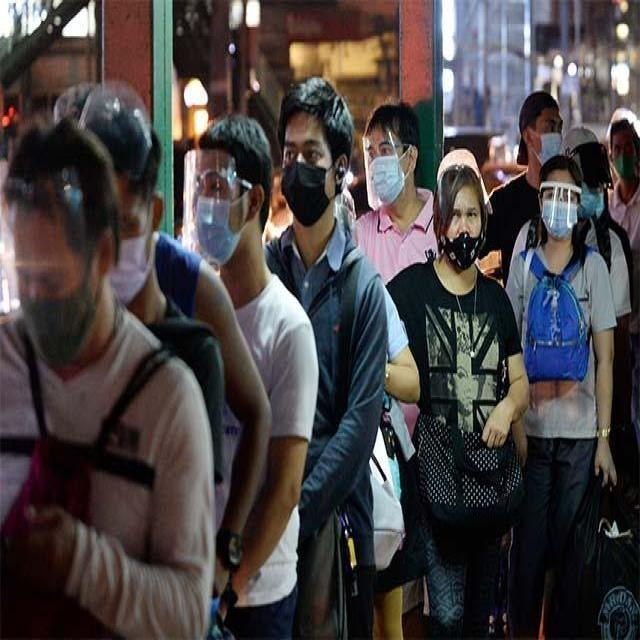hairnet: (441, 181, 481, 270)
